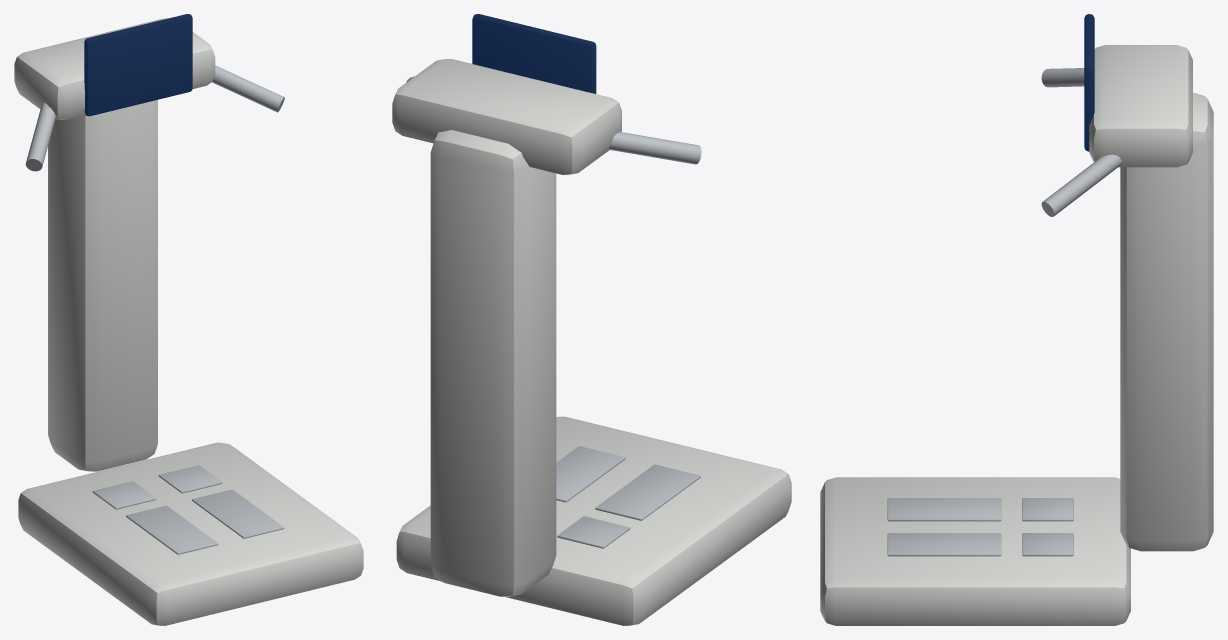
File: inbody.glb
3 renders of one model, left to right at view 1: azimuth 30°, elevation 25°; view 2: azimuth 150°, elevation 25°; view 3: azimuth 270°, elevation 25°, orthographic. The views are drawn at different scales.
Parts seen in each view (by area): view 1: inbody; view 2: inbody; view 3: inbody.
Boxes of the visible parts, left/top/right/bottom form: inbody: left=14, top=14, right=363, bottom=625; inbody: left=392, top=14, right=791, bottom=625; inbody: left=820, top=14, right=1213, bottom=625.
Bounding box in the file's own units: 0.6279 × 1.14 × 0.76.
